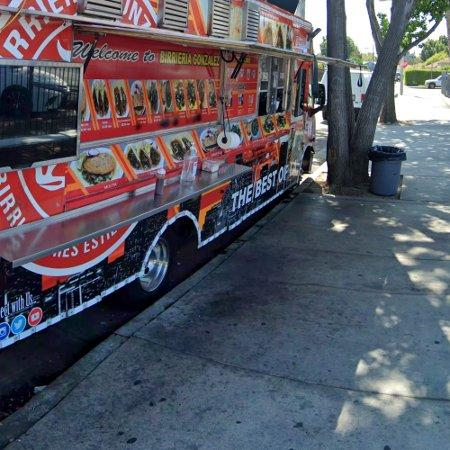buses: (0, 0, 320, 348)
